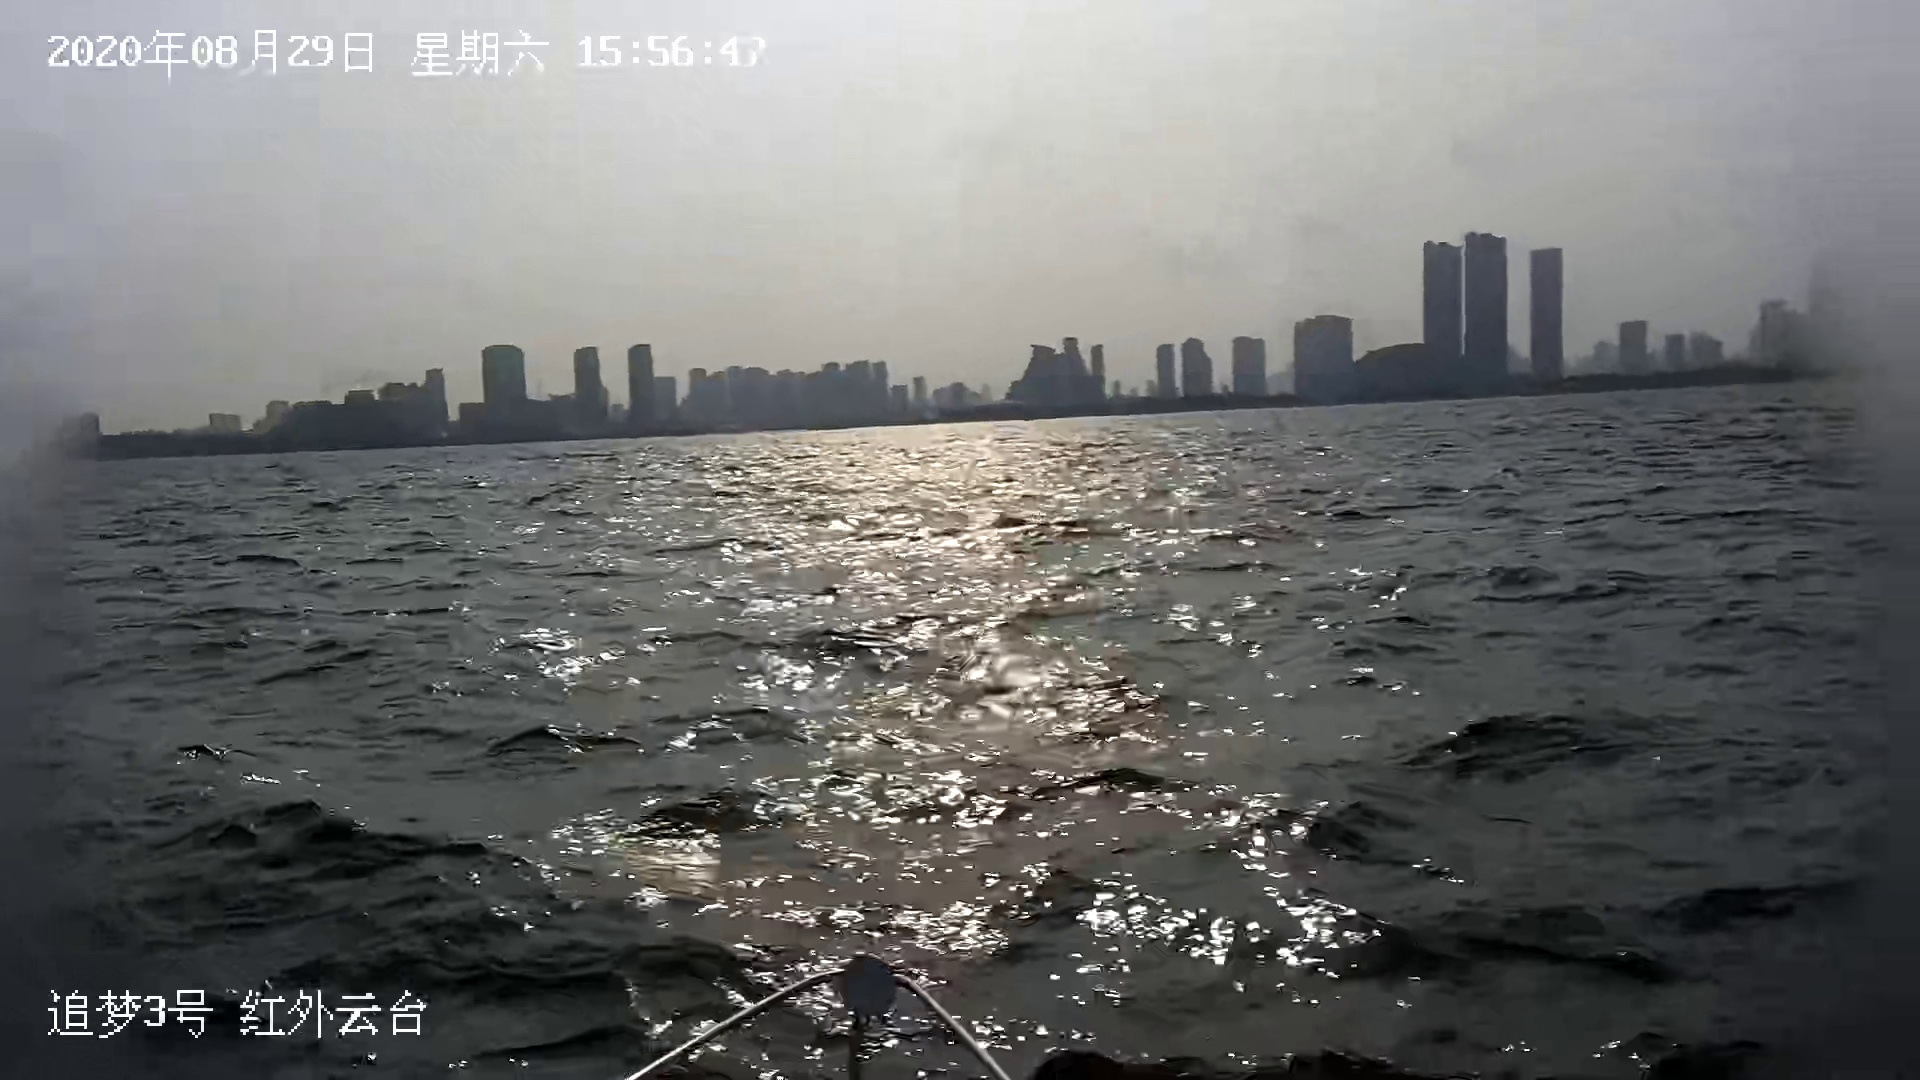coast: (44, 225, 1858, 456)
